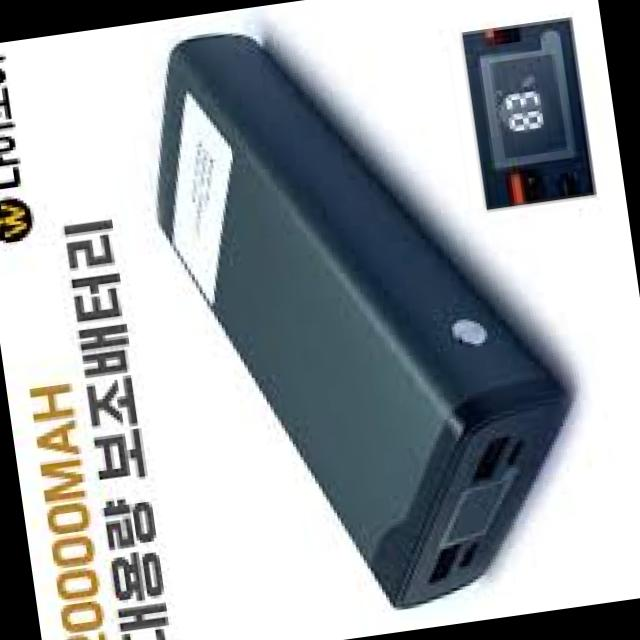portable-charger: (131, 0, 600, 635)
